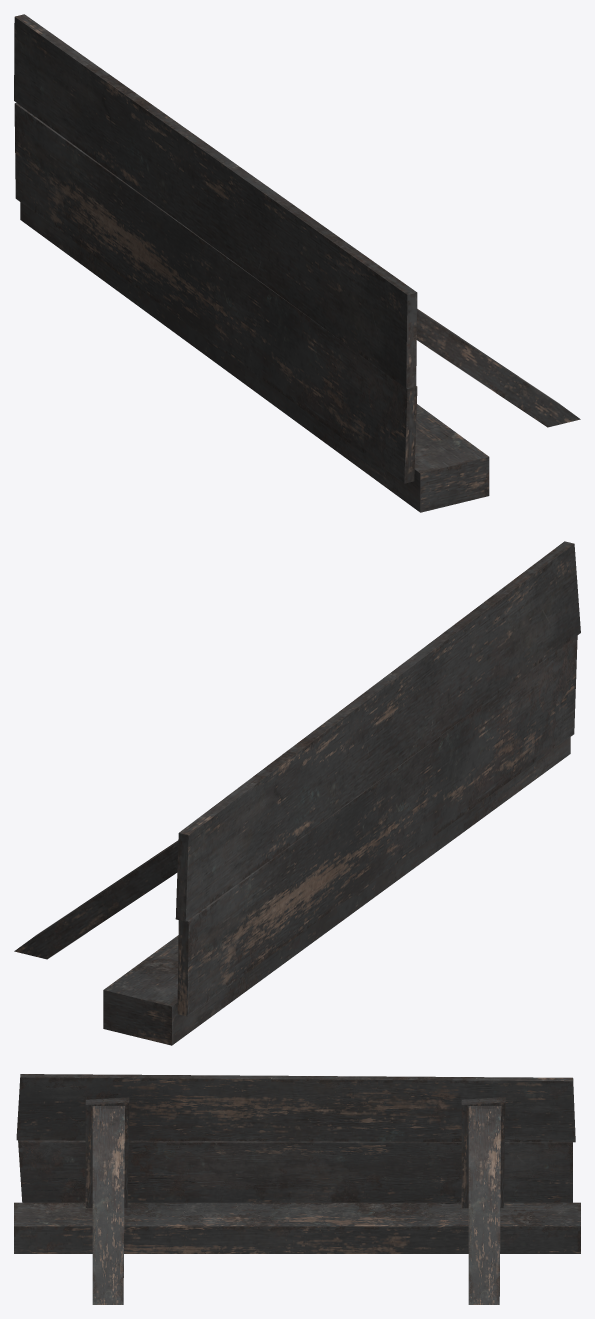
Rendered from SM_signboard_02.fbx.
3 renders of one model, top to bottom at view 1: azimuth 30°, elevation 25°; view 2: azimuth 150°, elevation 25°; view 3: azimuth 270°, elevation 25°, orthographic. The views are drawn at different scales.
Visible parts, largest first — view 1: SM_signboard_02_LOD0; view 2: SM_signboard_02_LOD0; view 3: SM_signboard_02_LOD0.
Boxes of the visible parts, x1,y1,x2,y2 form: SM_signboard_02_LOD0: (14,14,580,512); SM_signboard_02_LOD0: (14,541,580,1045); SM_signboard_02_LOD0: (14,1074,580,1304).
Size of the model in its own units: 66.35 by 201 by 60.11.
1 material, 1 textured.
